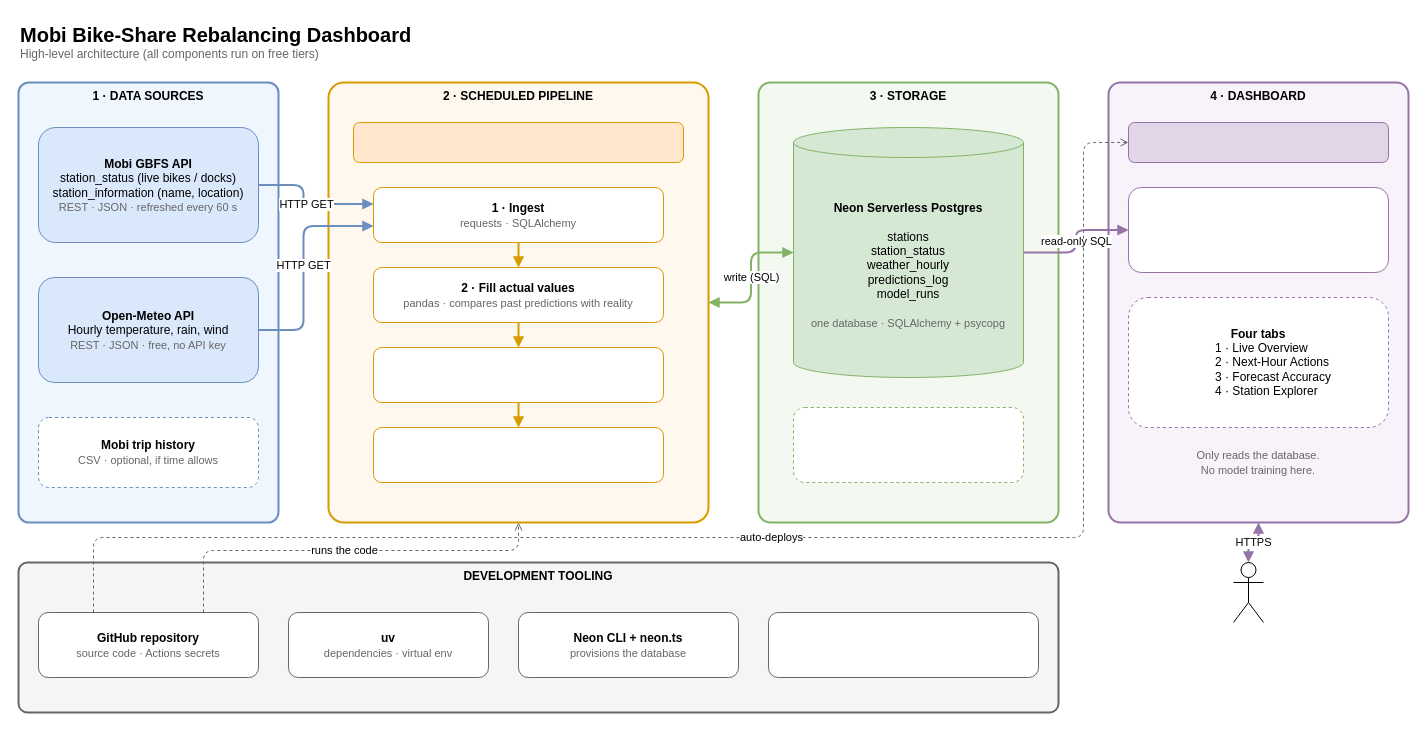
This 1426x730 diagram has some shape labels left out. The shapes that lost their labels are listed below. From the top down, each one's centre as x and y in pixels, then its label:
At [518,142]: "GitHub Actions · cron every 10 min".
At [1258,142]: "Render · free web service".
At [1258,229]: "Gradio app auto-refresh every 60 s Gradio · Plotly · pandas".
At [518,374]: "3 · Retrain model (hourly) scikit-learn (HistGradientBoosting) · joblib".
At [518,454]: "4 · Predict + self-correct bikes in 60 min · bias correction from recent errors".
At [908,444]: "Two roles pipeline: read + write dashboard: read-only".
At [1248,592]: "Mobi dispatcher (and the instructor) in a web browser".
At [903,645]: "pytest automated checks".
